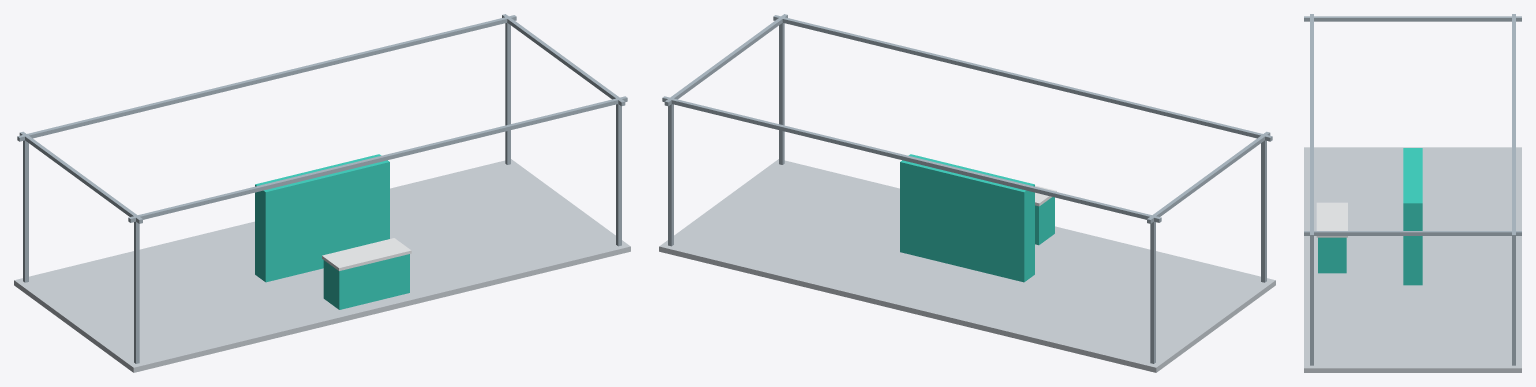
3 views of the same model, side by side, from view 1: azimuth 30°, elevation 25°; view 2: azimuth 150°, elevation 25°; view 3: azimuth 270°, elevation 25° (orthographic). The views are drawn at different scales.
Parts seen in each view (by area): view 1: Exhibition Booth Concept; view 2: Exhibition Booth Concept; view 3: Exhibition Booth Concept.
Boxes of the visible parts, bbox=[...] form: Exhibition Booth Concept: bbox=[14, 14, 630, 372]; Exhibition Booth Concept: bbox=[659, 14, 1275, 372]; Exhibition Booth Concept: bbox=[1304, 14, 1521, 372].
Bounding box in the file's own units: 12 × 3.49 × 5.
